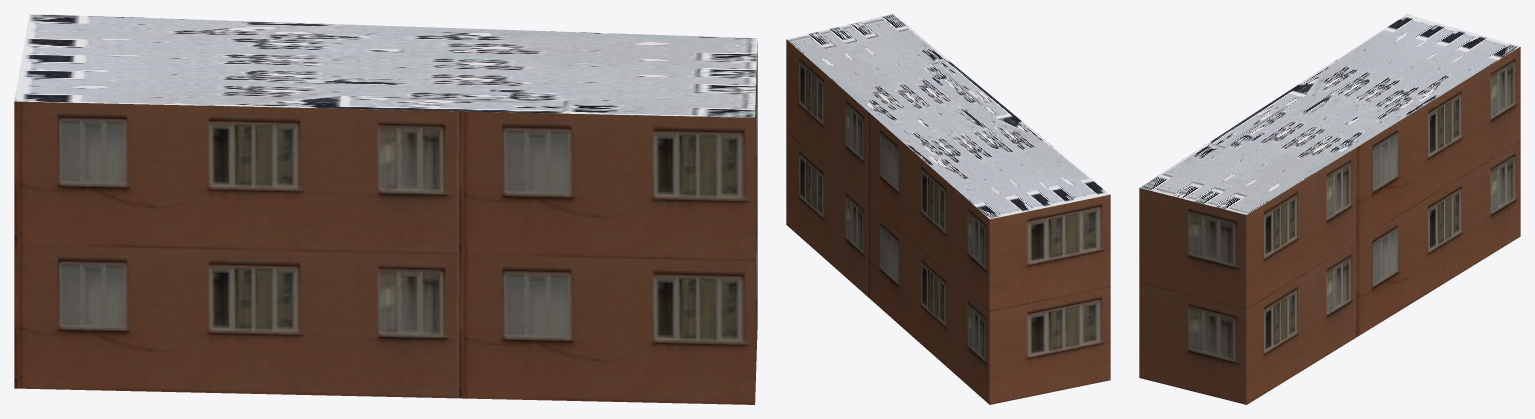
Rendered from ResTex__5001.fbx.
3 renders of one model, left to right at view 1: azimuth 30°, elevation 25°; view 2: azimuth 150°, elevation 25°; view 3: azimuth 270°, elevation 25°, orthographic. The views are drawn at different scales.
Parts seen in each view (by area): view 1: CityEngineMaterial_20_m, CityEngineMaterial_4_m; view 2: CityEngineMaterial_20_m, CityEngineMaterial_4_m; view 3: CityEngineMaterial_20_m, CityEngineMaterial_4_m.
Boxes of the visible parts, bbox=[...] form: CityEngineMaterial_20_m: bbox=[14, 43, 757, 404]; CityEngineMaterial_4_m: bbox=[14, 14, 757, 117]; CityEngineMaterial_20_m: bbox=[786, 39, 1110, 404]; CityEngineMaterial_4_m: bbox=[786, 14, 1109, 219]; CityEngineMaterial_20_m: bbox=[1139, 47, 1520, 404]; CityEngineMaterial_4_m: bbox=[1140, 14, 1519, 214].
Size of the model in its own units: 13.61 by 6 by 10.91.
Materials: 2 (2 with a texture image).
